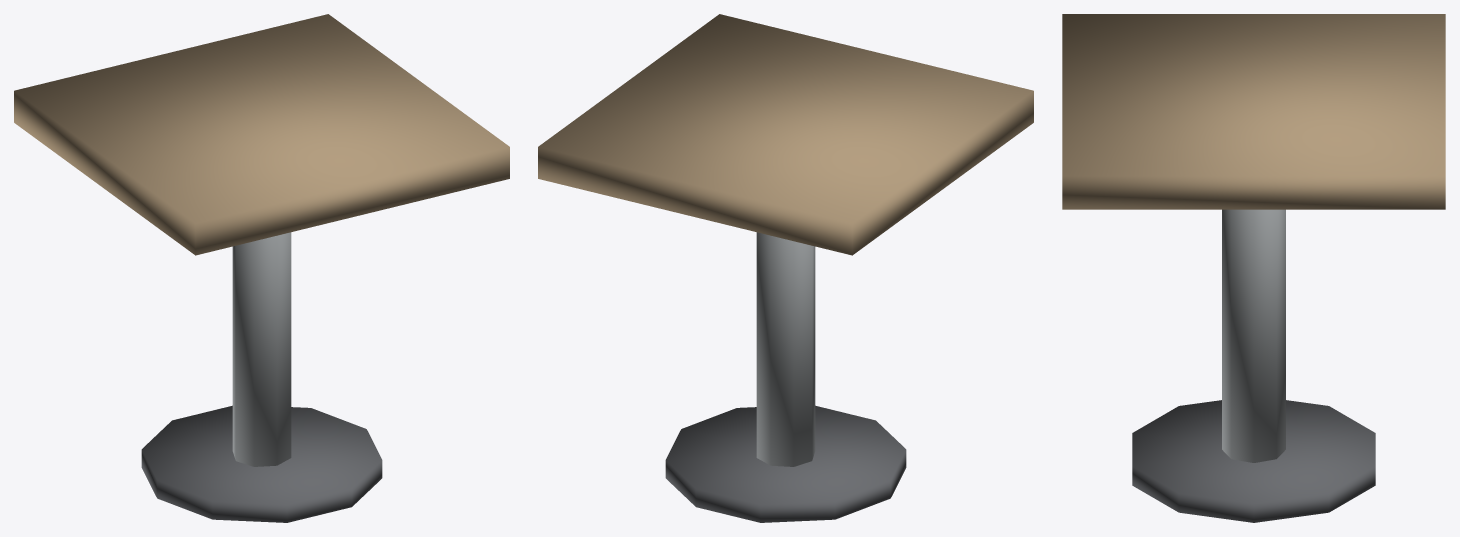
File: diner_two_top.glb
3 views of the same model, side by side, from view 1: azimuth 30°, elevation 25°; view 2: azimuth 150°, elevation 25°; view 3: azimuth 270°, elevation 25° (orthographic). The views are drawn at different scales.
Parts seen in each view (by area): view 1: world; view 2: world; view 3: world.
Boxes of the visible parts, x1=… form: world: x1=14, y1=14, x2=509, y2=522; world: x1=538, y1=14, x2=1033, y2=522; world: x1=1062, y1=14, x2=1445, y2=522.
Bounding box in the file's own units: 0.72 × 0.775 × 0.72.
